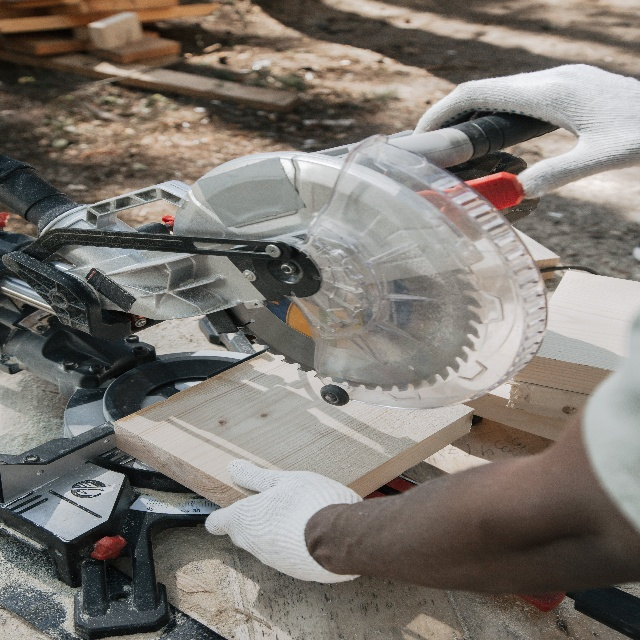Guantes: (412, 62, 640, 200), (203, 458, 365, 584)
